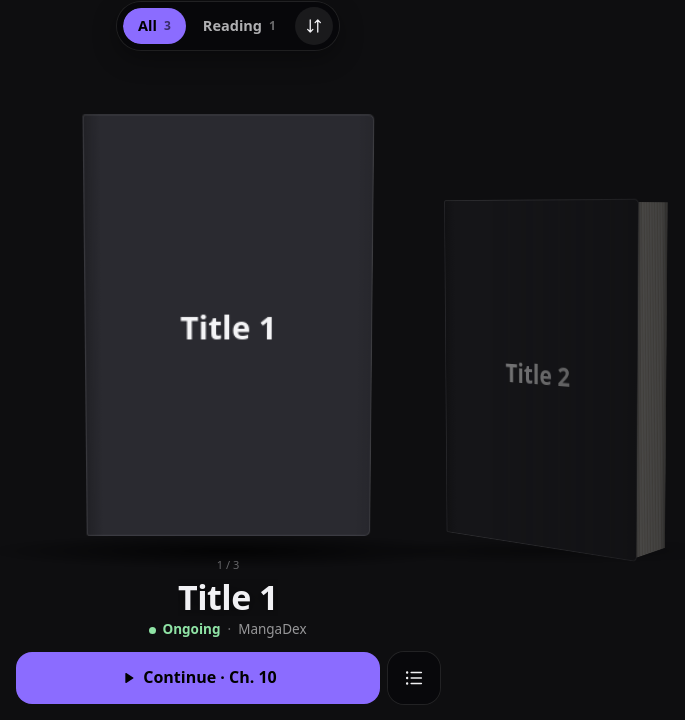
Test: narrows the shelf to a category
Check: the tab "All 3" is shown, box [123,8,186,44]
Click the tab "Reading 1" at (239, 26), box [188,8,291,44]
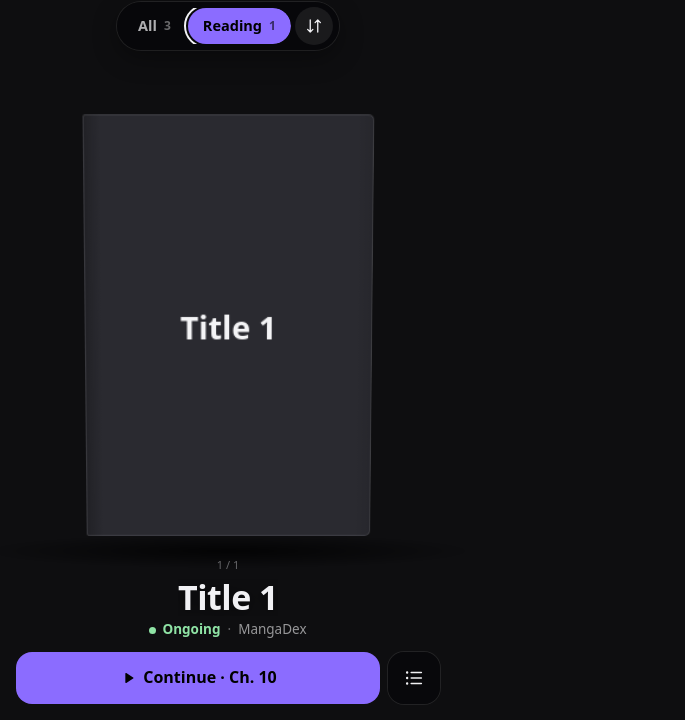
Check: the number of buttons "Title 1 Title 1" is 1, box [65,50,391,551]
